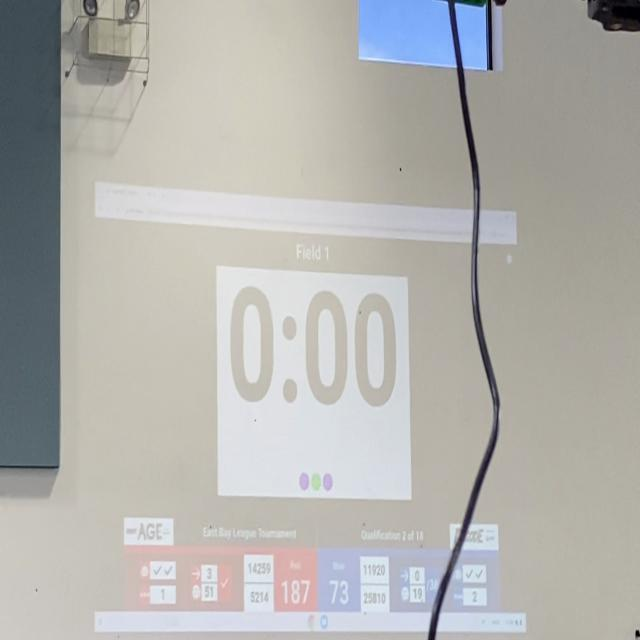artifact_purple: (300, 473, 309, 490), (323, 474, 332, 491)
